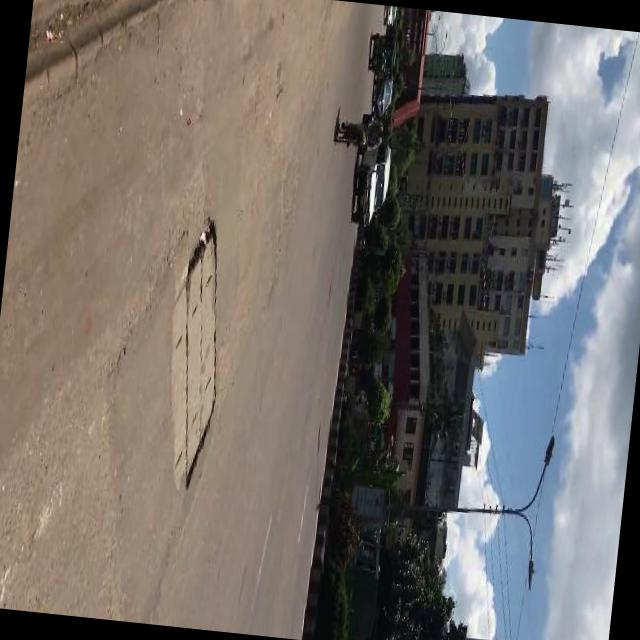car: (350, 142, 392, 232), (369, 72, 394, 122), (384, 8, 397, 30)
motorcycle: (366, 32, 398, 78)
